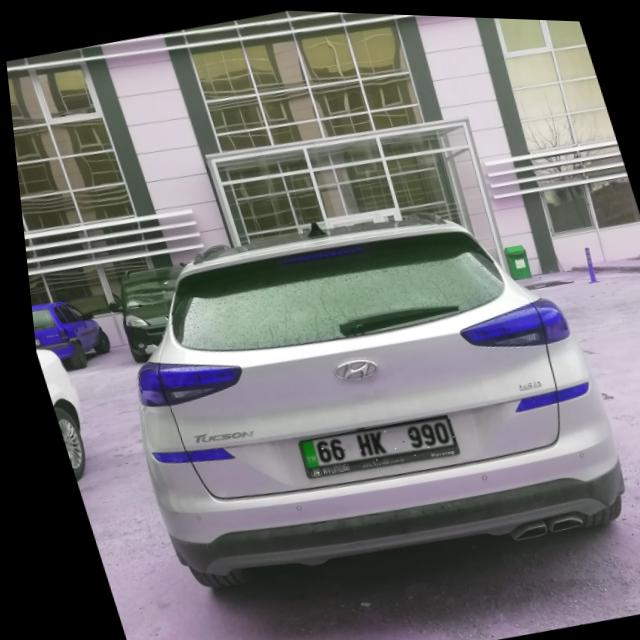license_plate: (287, 407, 450, 477)
